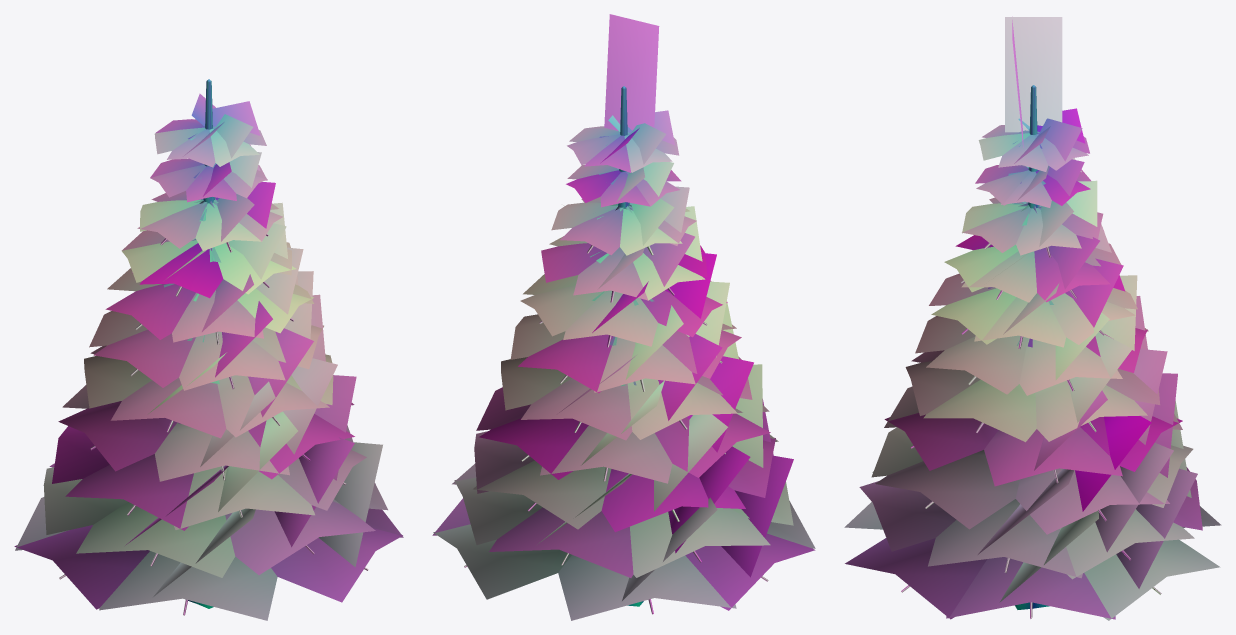
The model's file is winterbaum.glb.
3 views of the same model, side by side, from view 1: azimuth 30°, elevation 25°; view 2: azimuth 150°, elevation 25°; view 3: azimuth 270°, elevation 25° (orthographic).
Parts seen in each view (by area): view 1: winterbaum_lod0; view 2: winterbaum_lod0; view 3: winterbaum_lod0.
Part boxes in pixels (x1,y1,x2,y2): winterbaum_lod0: (14, 79, 403, 620); winterbaum_lod0: (432, 14, 815, 620); winterbaum_lod0: (844, 16, 1221, 620).
Size of what is drawn, in the model's own units: 6.22 by 10.97 by 6.56.
